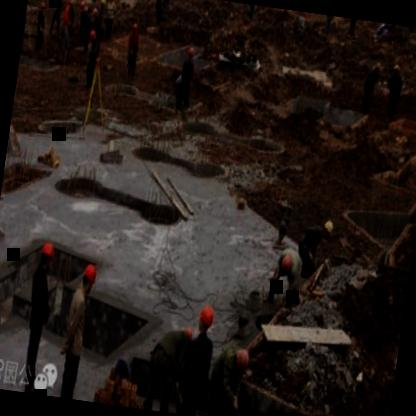helmet: (35, 237, 58, 274), (78, 261, 101, 295), (194, 300, 216, 335), (275, 250, 295, 286), (230, 346, 250, 375), (320, 215, 336, 242)
